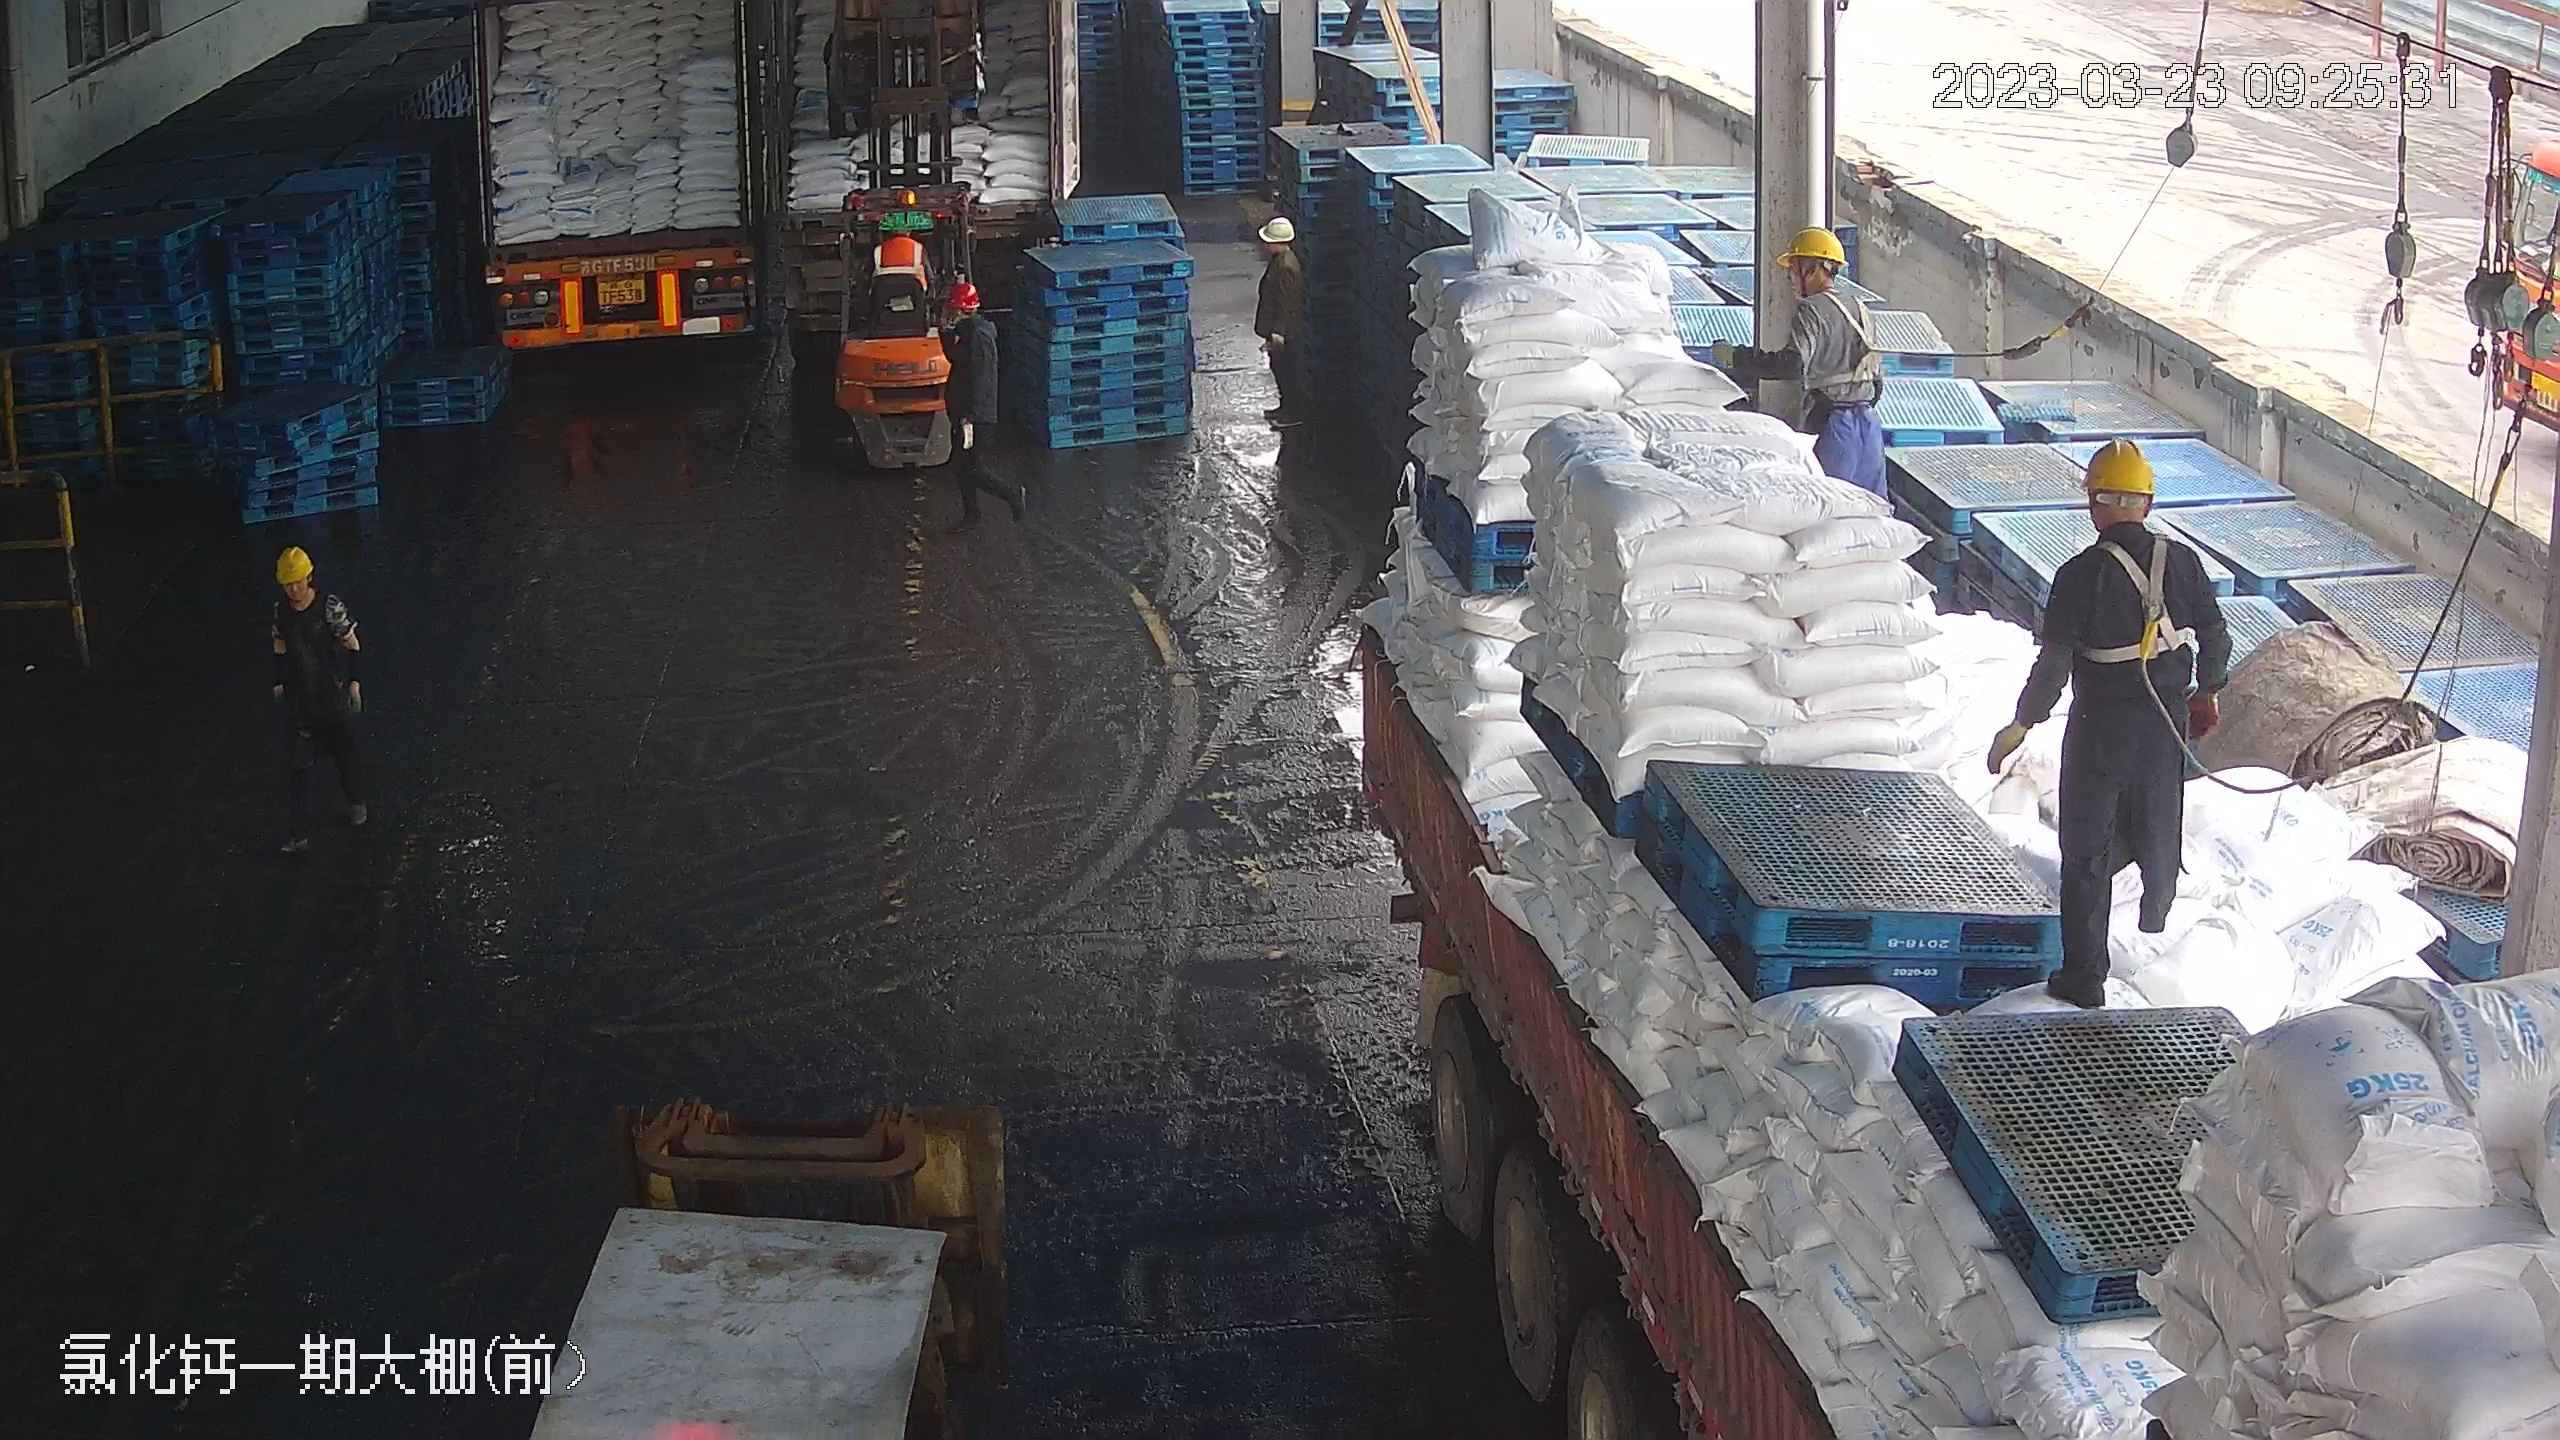belt: (2042, 435, 2214, 623), (2073, 529, 2191, 672), (1800, 286, 1888, 388)
head: (2040, 434, 2217, 607), (1764, 225, 1876, 345), (267, 545, 358, 652), (937, 277, 992, 349), (1251, 211, 1303, 283)
helmet: (2075, 434, 2159, 495), (1774, 223, 1845, 271), (274, 544, 316, 582), (1257, 211, 1294, 241), (946, 278, 981, 307)
people: (1988, 431, 2234, 1006), (1702, 219, 1885, 488), (264, 542, 376, 850), (933, 279, 997, 488), (1252, 209, 1305, 454)
truck: (1325, 126, 2540, 1434), (451, 1, 807, 353)
